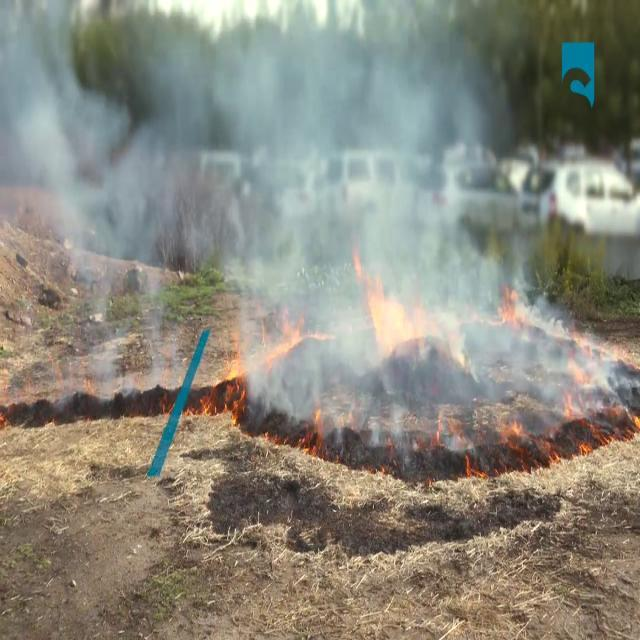Smoke: (0, 1, 582, 427)
